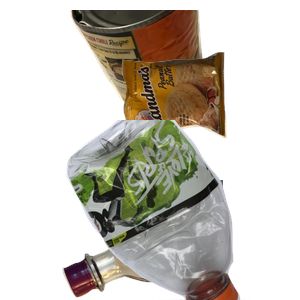glass: (60, 180, 300, 300)
metal: (68, 10, 265, 131)
plastic: (64, 120, 300, 300)
trash: (120, 50, 300, 182)
